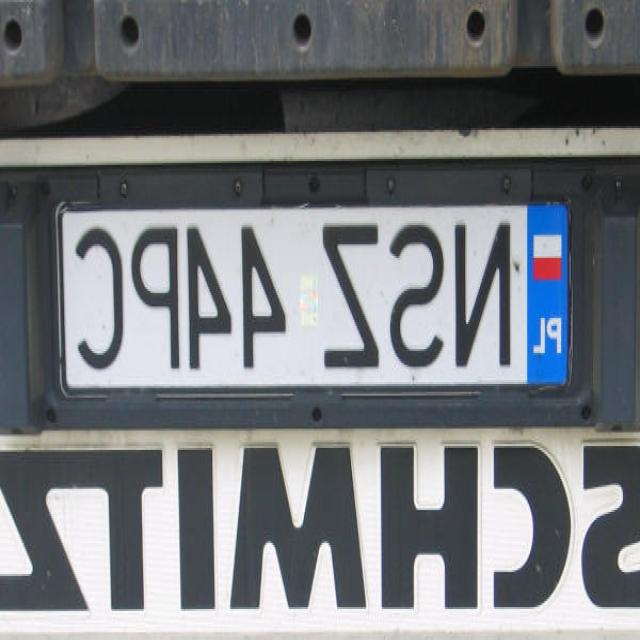pl_license_plate: (62, 206, 568, 386)
